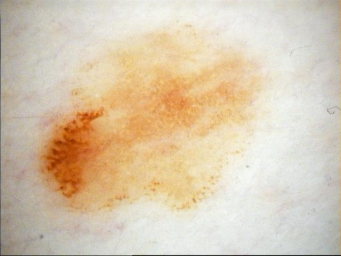nevus: (47, 34, 263, 212)
